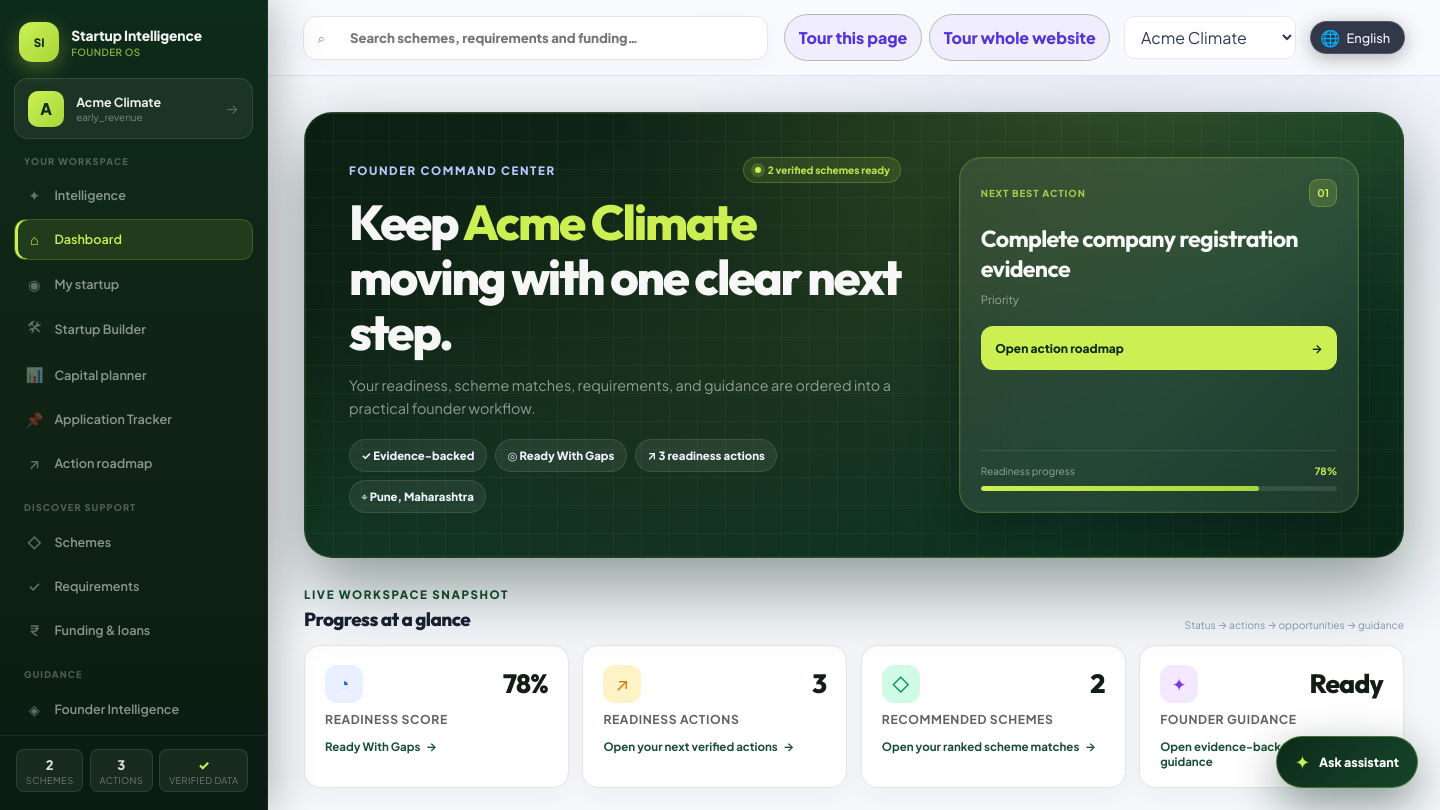
Test case: functional user dashboard › shows funding and loan terms and opens scheme detail
Expected: the heading "Keep Acme Climate moving with one clear next step." is shown, [349,195,901,360]
Click the link "₹ Funding & loans" at (90, 630), box [30,621,150,639]
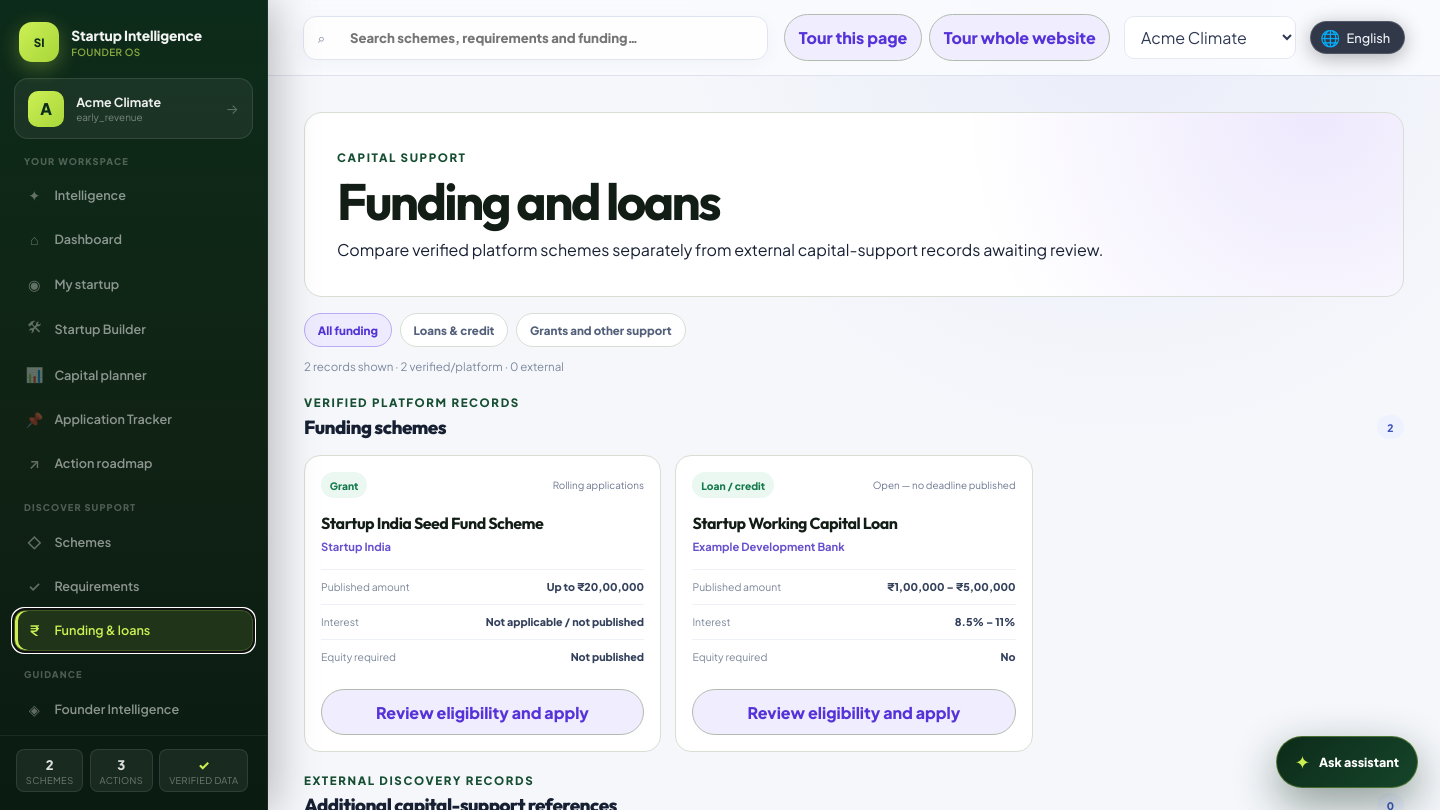
Expected: the heading "Funding and loans" is shown, [337,169,719,233]
Expected: the text "8.5% – 11%" is shown, [955,615,1016,628]
Click the button "Review eligibility and apply" below "8.5% – 11%" at (854, 712), box [692,689,1016,735]
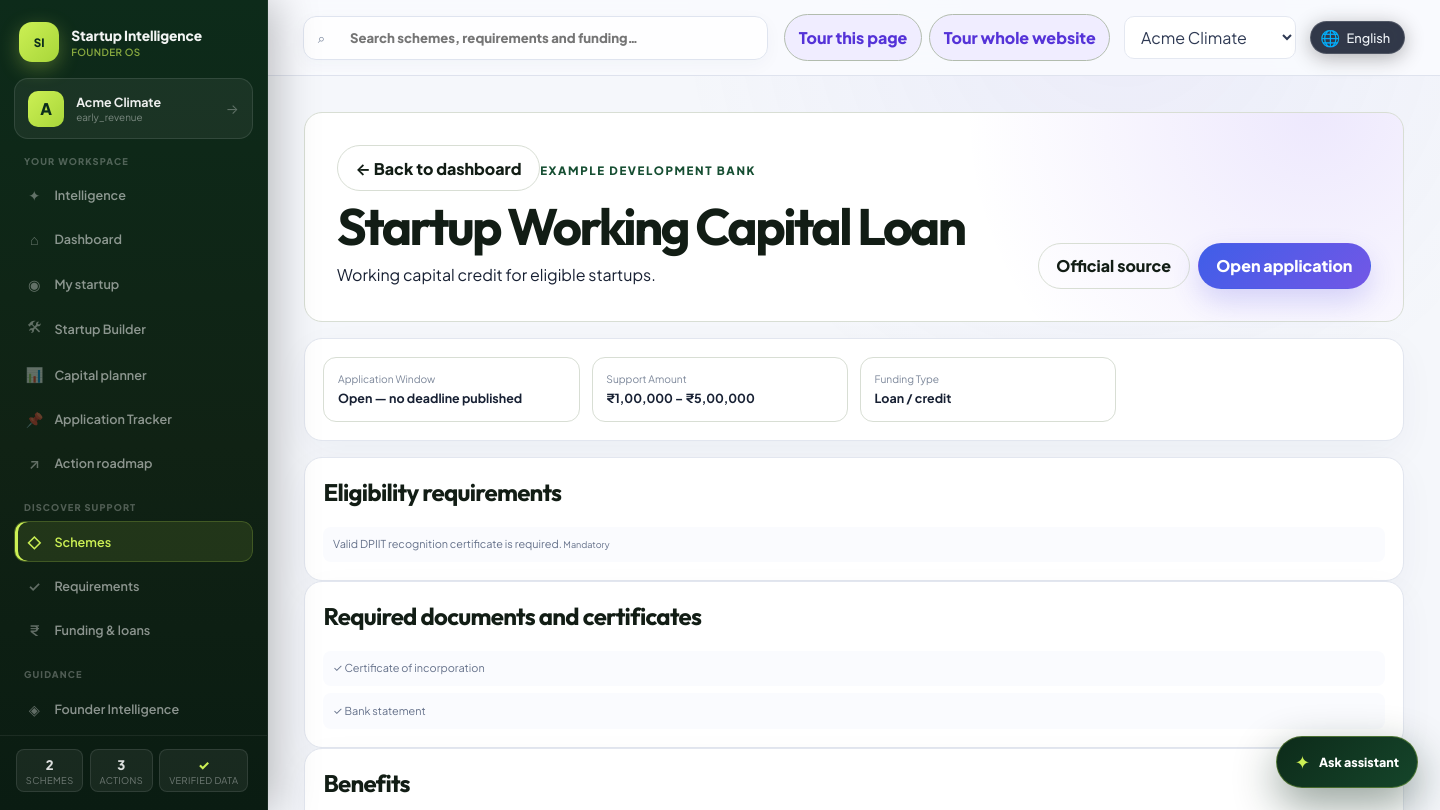
Expected: the heading "Startup Working Capital Loan" is shown, [337,200,964,252]
